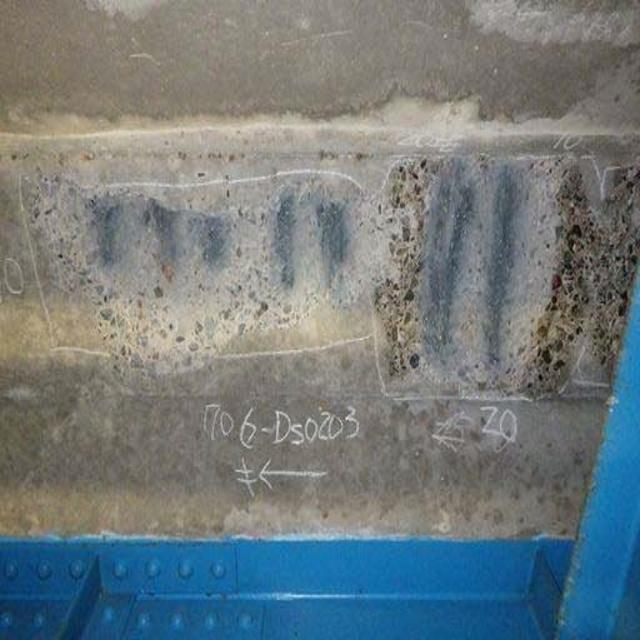spalling: (51, 156, 614, 391)
